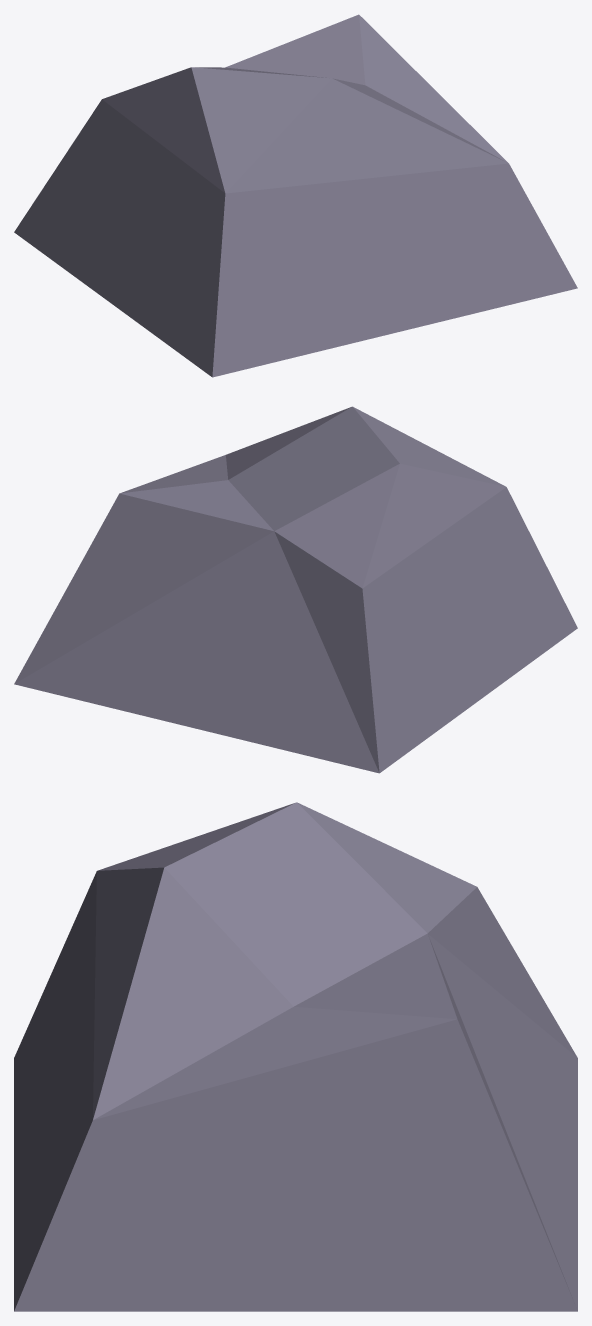
File: Rock_02.fbx
3 renders of one model, top to bottom at view 1: azimuth 30°, elevation 25°; view 2: azimuth 150°, elevation 25°; view 3: azimuth 270°, elevation 25°, orthographic. The views are drawn at different scales.
Visible parts, largest first — view 1: Rock_02; view 2: Rock_02; view 3: Rock_02.
Boxes of the visible parts, left/top/right/bottom form: Rock_02: left=14, top=14, right=577, bottom=377; Rock_02: left=14, top=406, right=577, bottom=773; Rock_02: left=14, top=802, right=577, bottom=1311.
Size of the model in its own units: 3.5 by 2 by 3.29.
